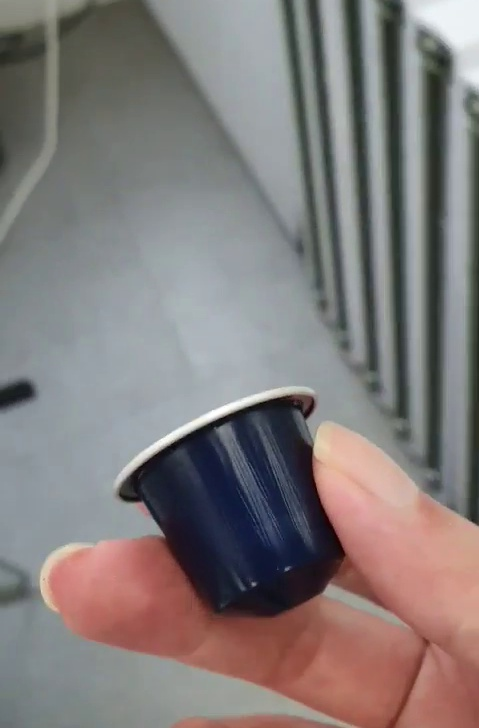capsule_1: (113, 383, 348, 620)
